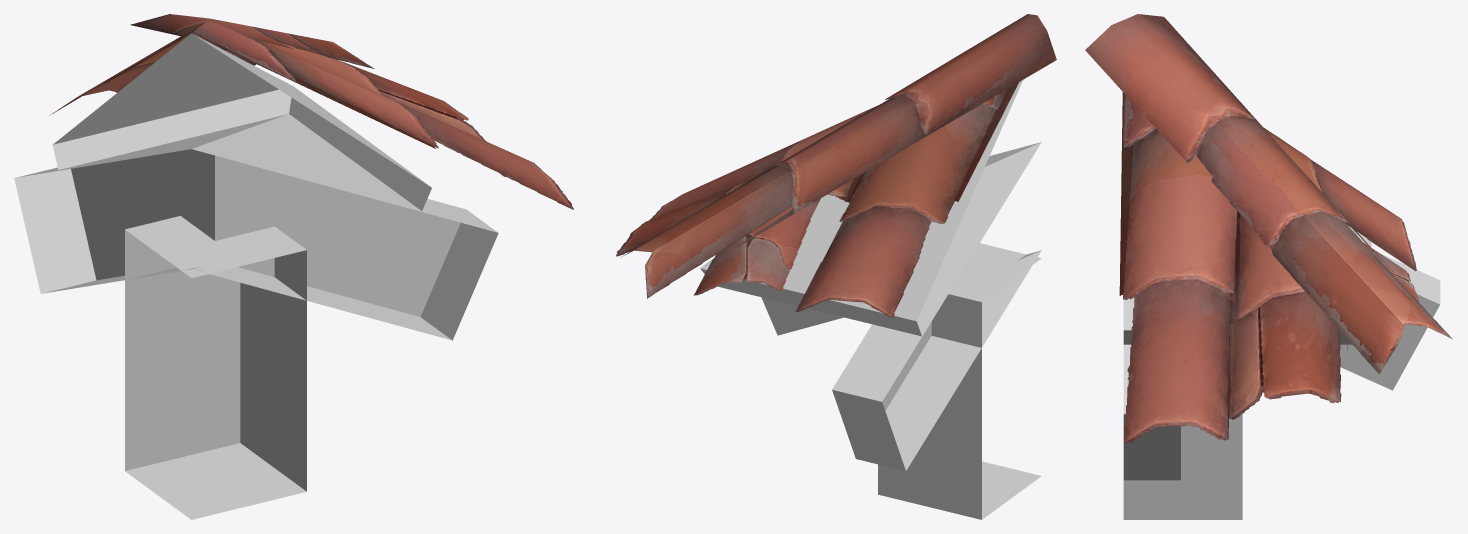
Rendered from WallKit_Hip_End_LOD0.fbx.
3 views of the same model, side by side, from view 1: azimuth 30°, elevation 25°; view 2: azimuth 150°, elevation 25°; view 3: azimuth 270°, elevation 25° (orthographic). The views are drawn at different scales.
Visible parts, largest first — view 1: WallKit_Hip_End_LOD0; view 2: WallKit_Hip_End_LOD0; view 3: WallKit_Hip_End_LOD0.
Part boxes in pixels (box(x1,y1,x2,y2)): WallKit_Hip_End_LOD0: box(14, 14, 573, 519); WallKit_Hip_End_LOD0: box(616, 14, 1056, 519); WallKit_Hip_End_LOD0: box(1085, 14, 1452, 519).
Bounding box in the file's own units: 77.32 × 86.28 × 64.16.
